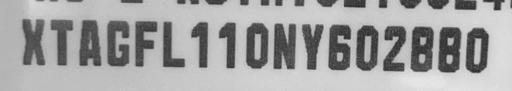letter: (15, 14, 47, 67), (102, 17, 132, 68), (156, 20, 186, 69), (406, 24, 436, 73), (74, 17, 102, 68), (270, 21, 298, 72), (215, 17, 241, 70), (354, 23, 382, 72), (462, 26, 490, 75), (244, 19, 270, 70), (187, 20, 213, 71), (324, 21, 350, 72), (48, 16, 74, 65), (298, 22, 324, 71), (436, 25, 462, 74), (131, 16, 155, 67), (382, 24, 406, 73)
